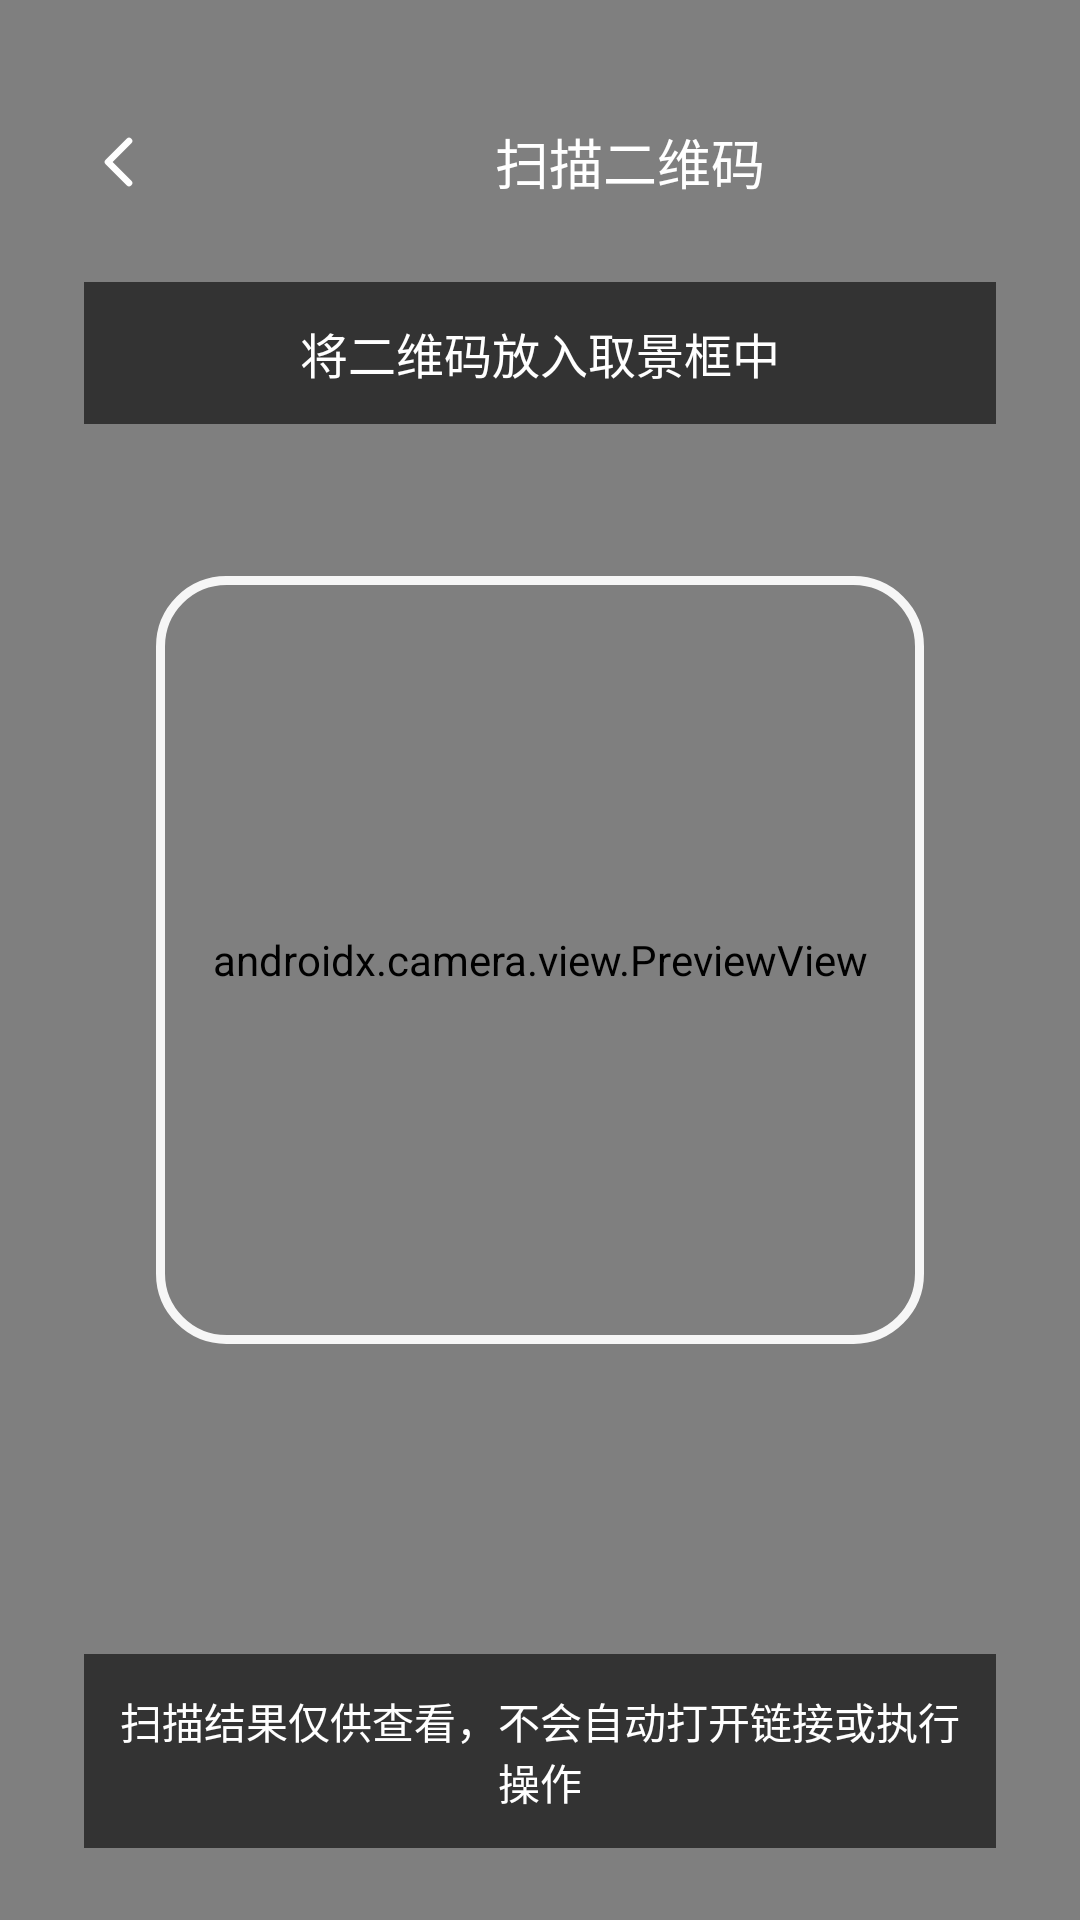

Where icons sit on this 1080 × 1920 app screen, as [x1, y1, x2, y2]:
返回: [104, 137, 133, 187]
